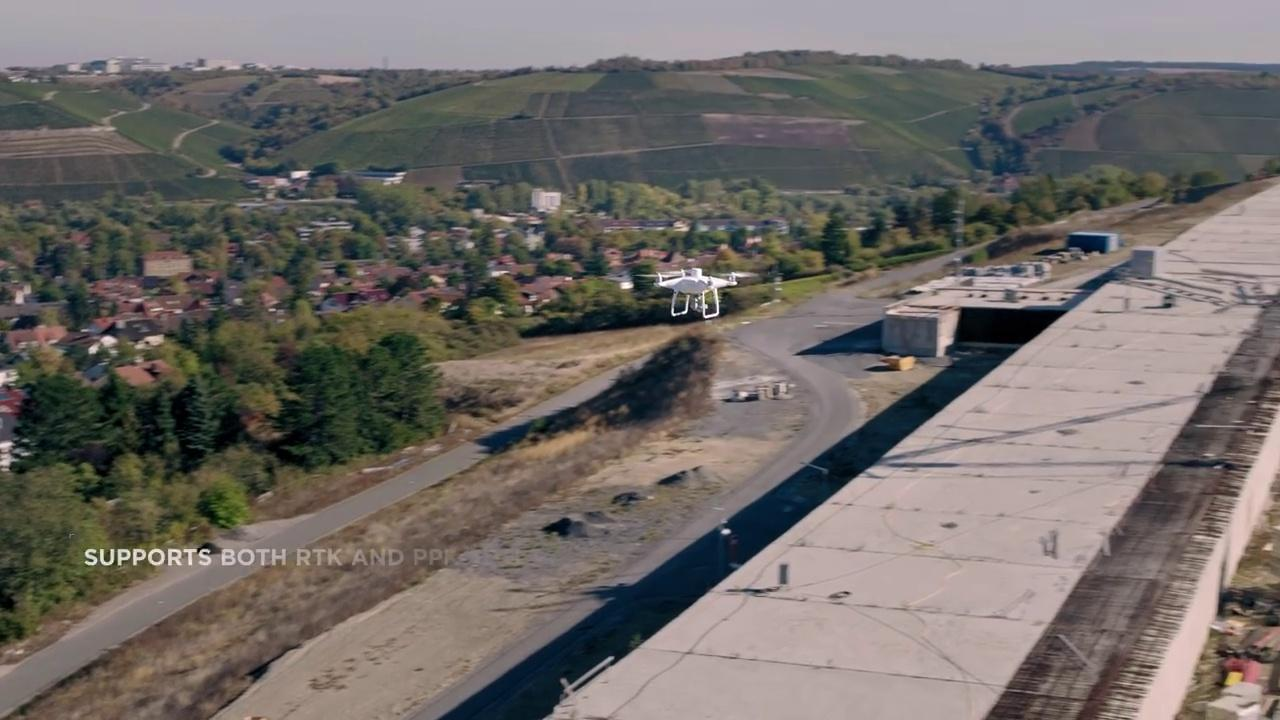drone: (634, 259, 759, 319)
